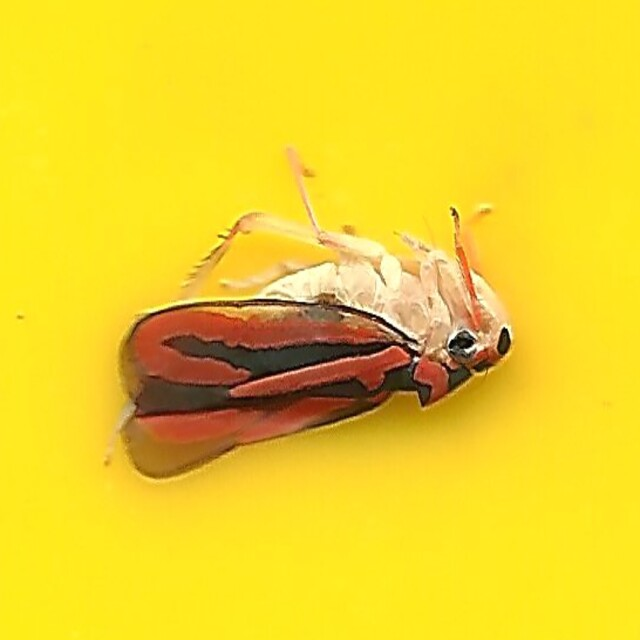Hemiptera: (117, 156, 523, 484)
